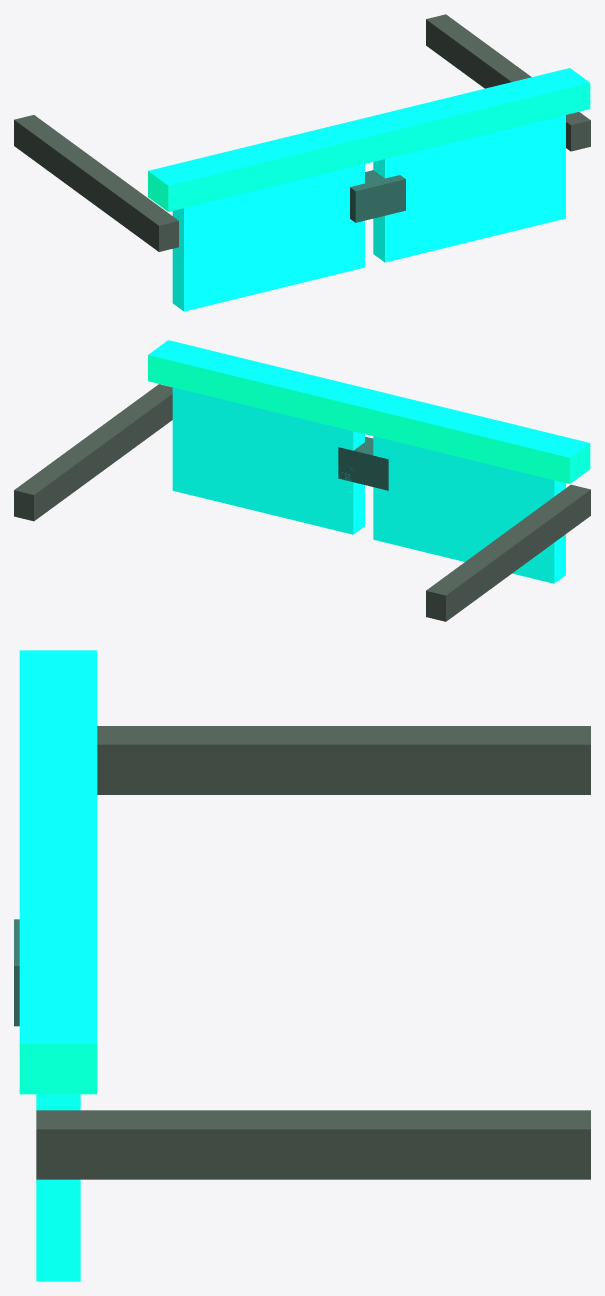
File: oculos.glb
3 renders of one model, top to bottom at view 1: azimuth 30°, elevation 25°; view 2: azimuth 150°, elevation 25°; view 3: azimuth 270°, elevation 25°, orthographic. The views are drawn at different scales.
Parts seen in each view (by area): view 1: FrameTop_node, LensLeft_node, LensRight_node, ArmLeft_node, ArmRight_node, Bridge_node; view 2: FrameTop_node, LensRight_node, LensLeft_node, ArmLeft_node, ArmRight_node, Bridge_node; view 3: ArmRight_node, FrameTop_node, ArmLeft_node, LensRight_node.
Boxes of the visible parts, bbox=[...] form: FrameTop_node: bbox=[148, 68, 590, 211]; LensLeft_node: bbox=[172, 164, 364, 311]; LensRight_node: bbox=[373, 115, 565, 262]; ArmLeft_node: bbox=[14, 115, 178, 251]; ArmRight_node: bbox=[426, 14, 590, 151]; Bridge_node: bbox=[350, 170, 405, 222]; FrameTop_node: bbox=[148, 340, 590, 483]; LensRight_node: bbox=[172, 387, 364, 534]; LensLeft_node: bbox=[373, 436, 565, 583]; ArmLeft_node: bbox=[426, 484, 590, 621]; ArmRight_node: bbox=[14, 384, 172, 521]; Bridge_node: bbox=[338, 436, 388, 490]; ArmRight_node: bbox=[36, 1110, 590, 1179]; FrameTop_node: bbox=[19, 650, 97, 1094]; ArmLeft_node: bbox=[97, 726, 590, 794]; LensRight_node: bbox=[36, 1094, 80, 1281].
Bounding box in the file's own units: 0.86 × 0.255 × 0.52.
